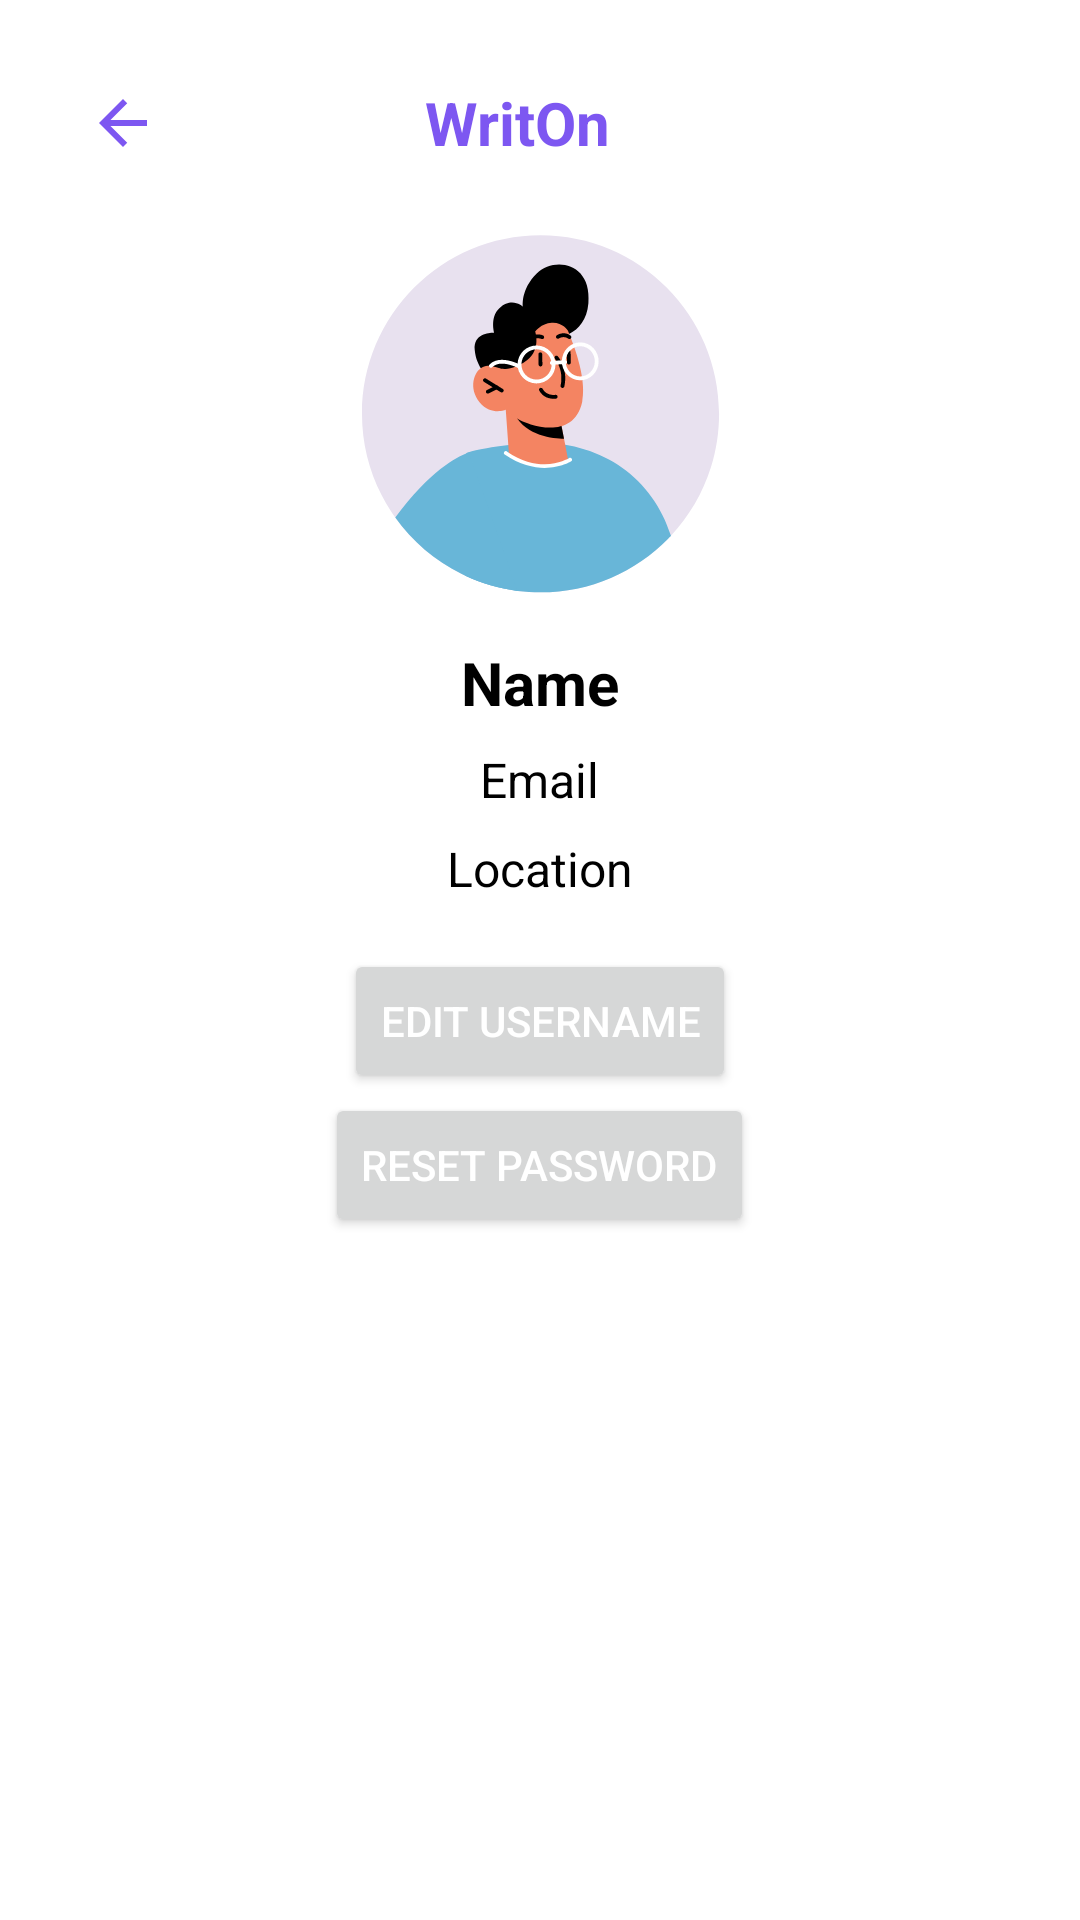

Locate icon controls on the screen. Image size 1080 x 1920, boxes as (x1, y1, x2, y2).
arrow back: (99, 99, 147, 147)
profile pict: (362, 236, 719, 593)
